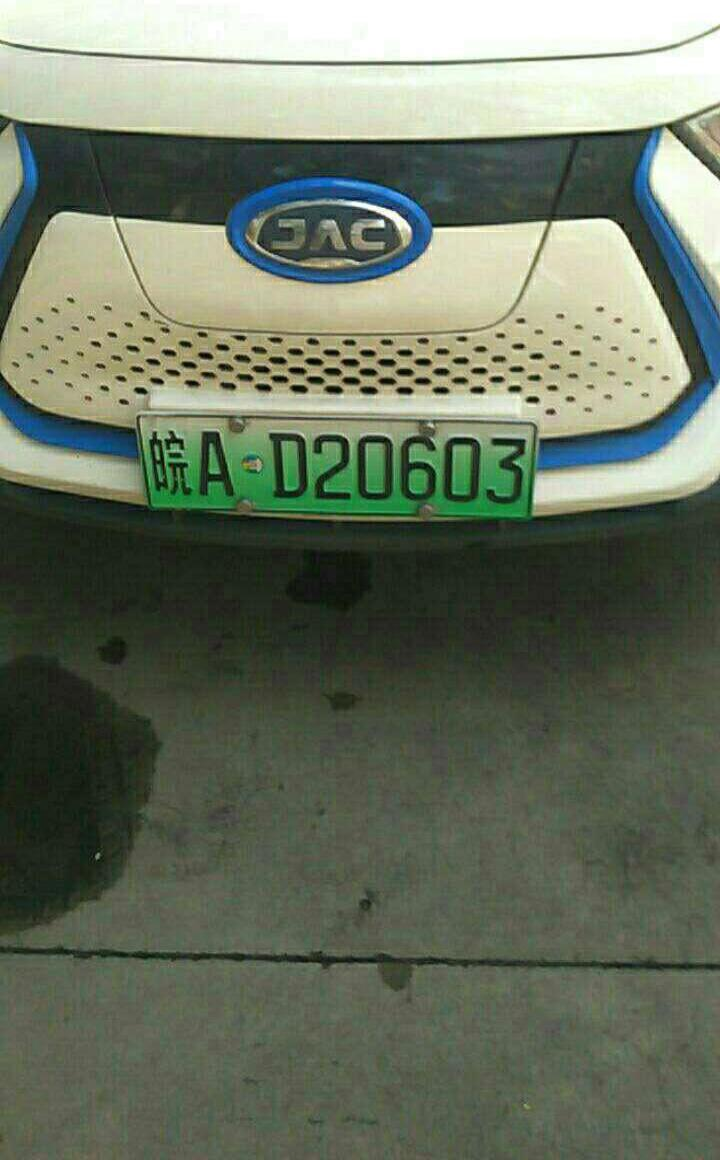car_green: (128, 405, 544, 527)
